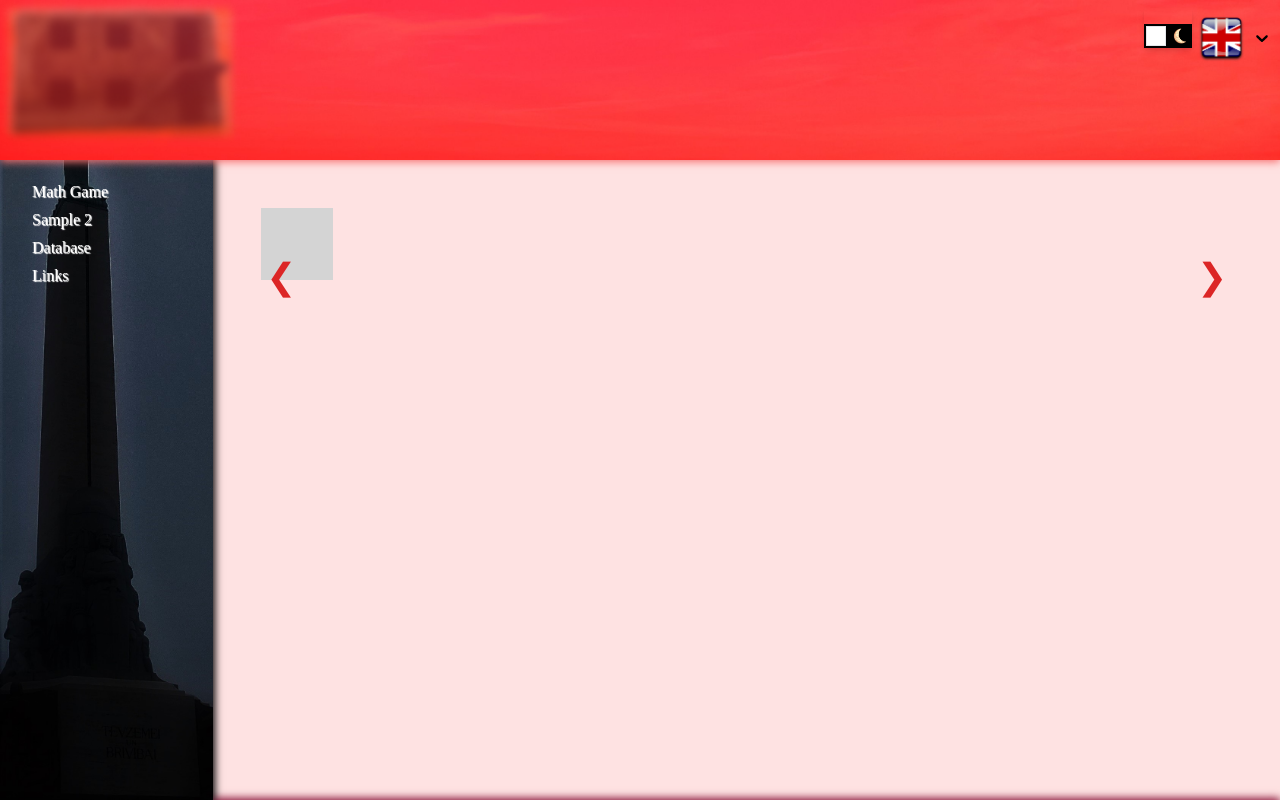
Scenario: LeftNavBar › should render the navbar link Math Game and render content $content when the link is clicked
Check: the text "Math Game!" is not shown
Click the link "Math Game". click: (70, 192)
box: [32, 183, 108, 200]
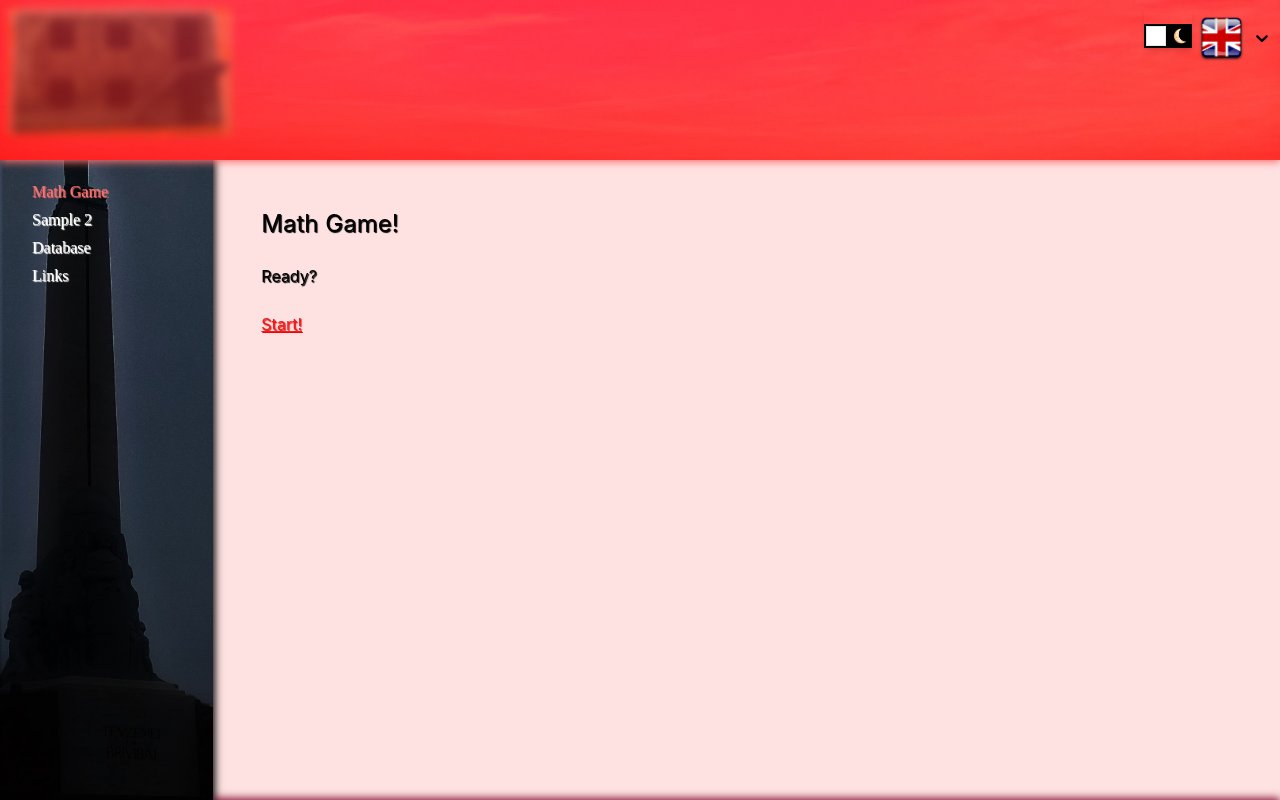
Check: the heading "Math Game!" is shown, box [261, 209, 399, 238]
Check: the picture with alt text "slideshow-0" is gone
